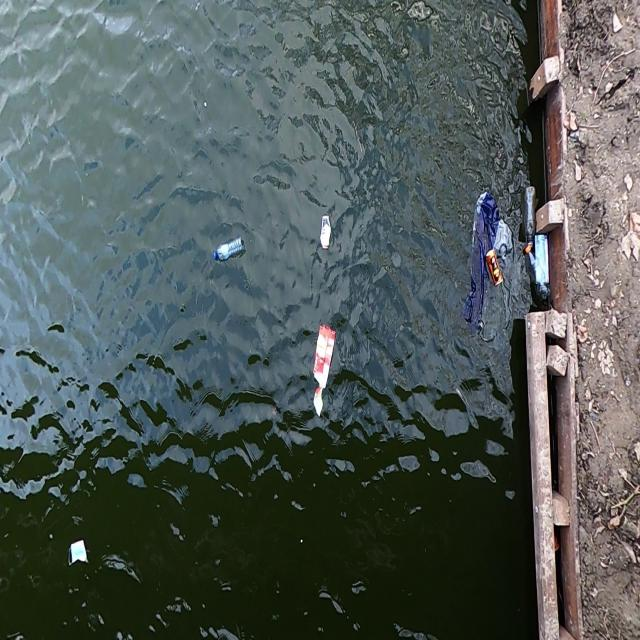Bouteille plastique: (210, 230, 248, 271)
Non plastique: (62, 537, 90, 573), (318, 206, 335, 257), (486, 246, 503, 284)
